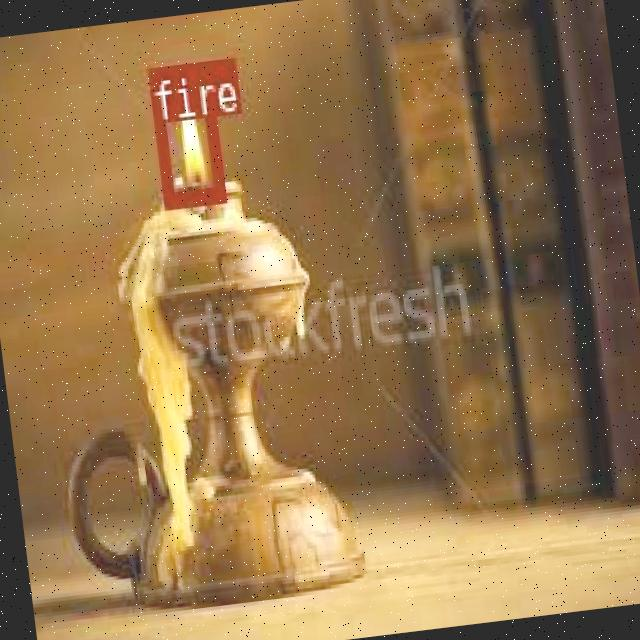fire: (147, 60, 224, 206)
